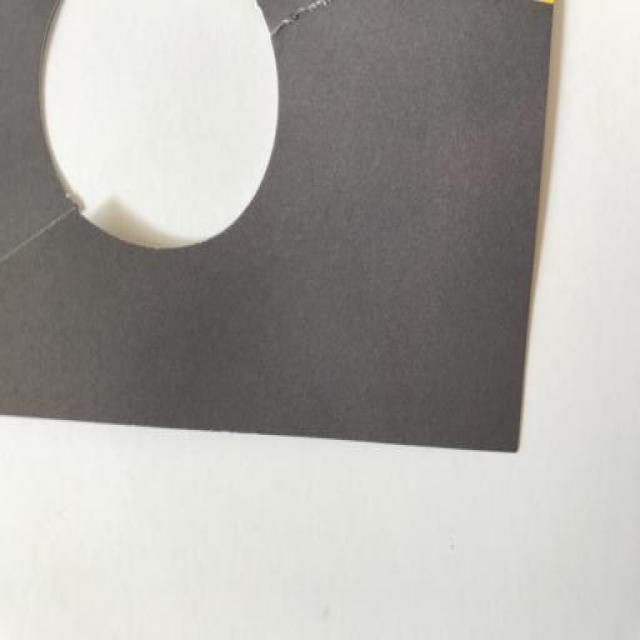paper: (1, 1, 607, 464)
